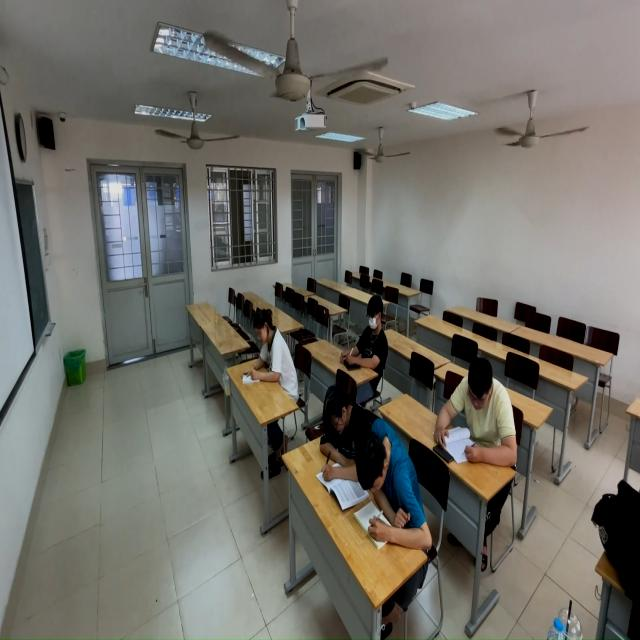read: (355, 412, 432, 555), (443, 343, 528, 472), (314, 370, 384, 493), (238, 295, 302, 402), (342, 295, 395, 374)
